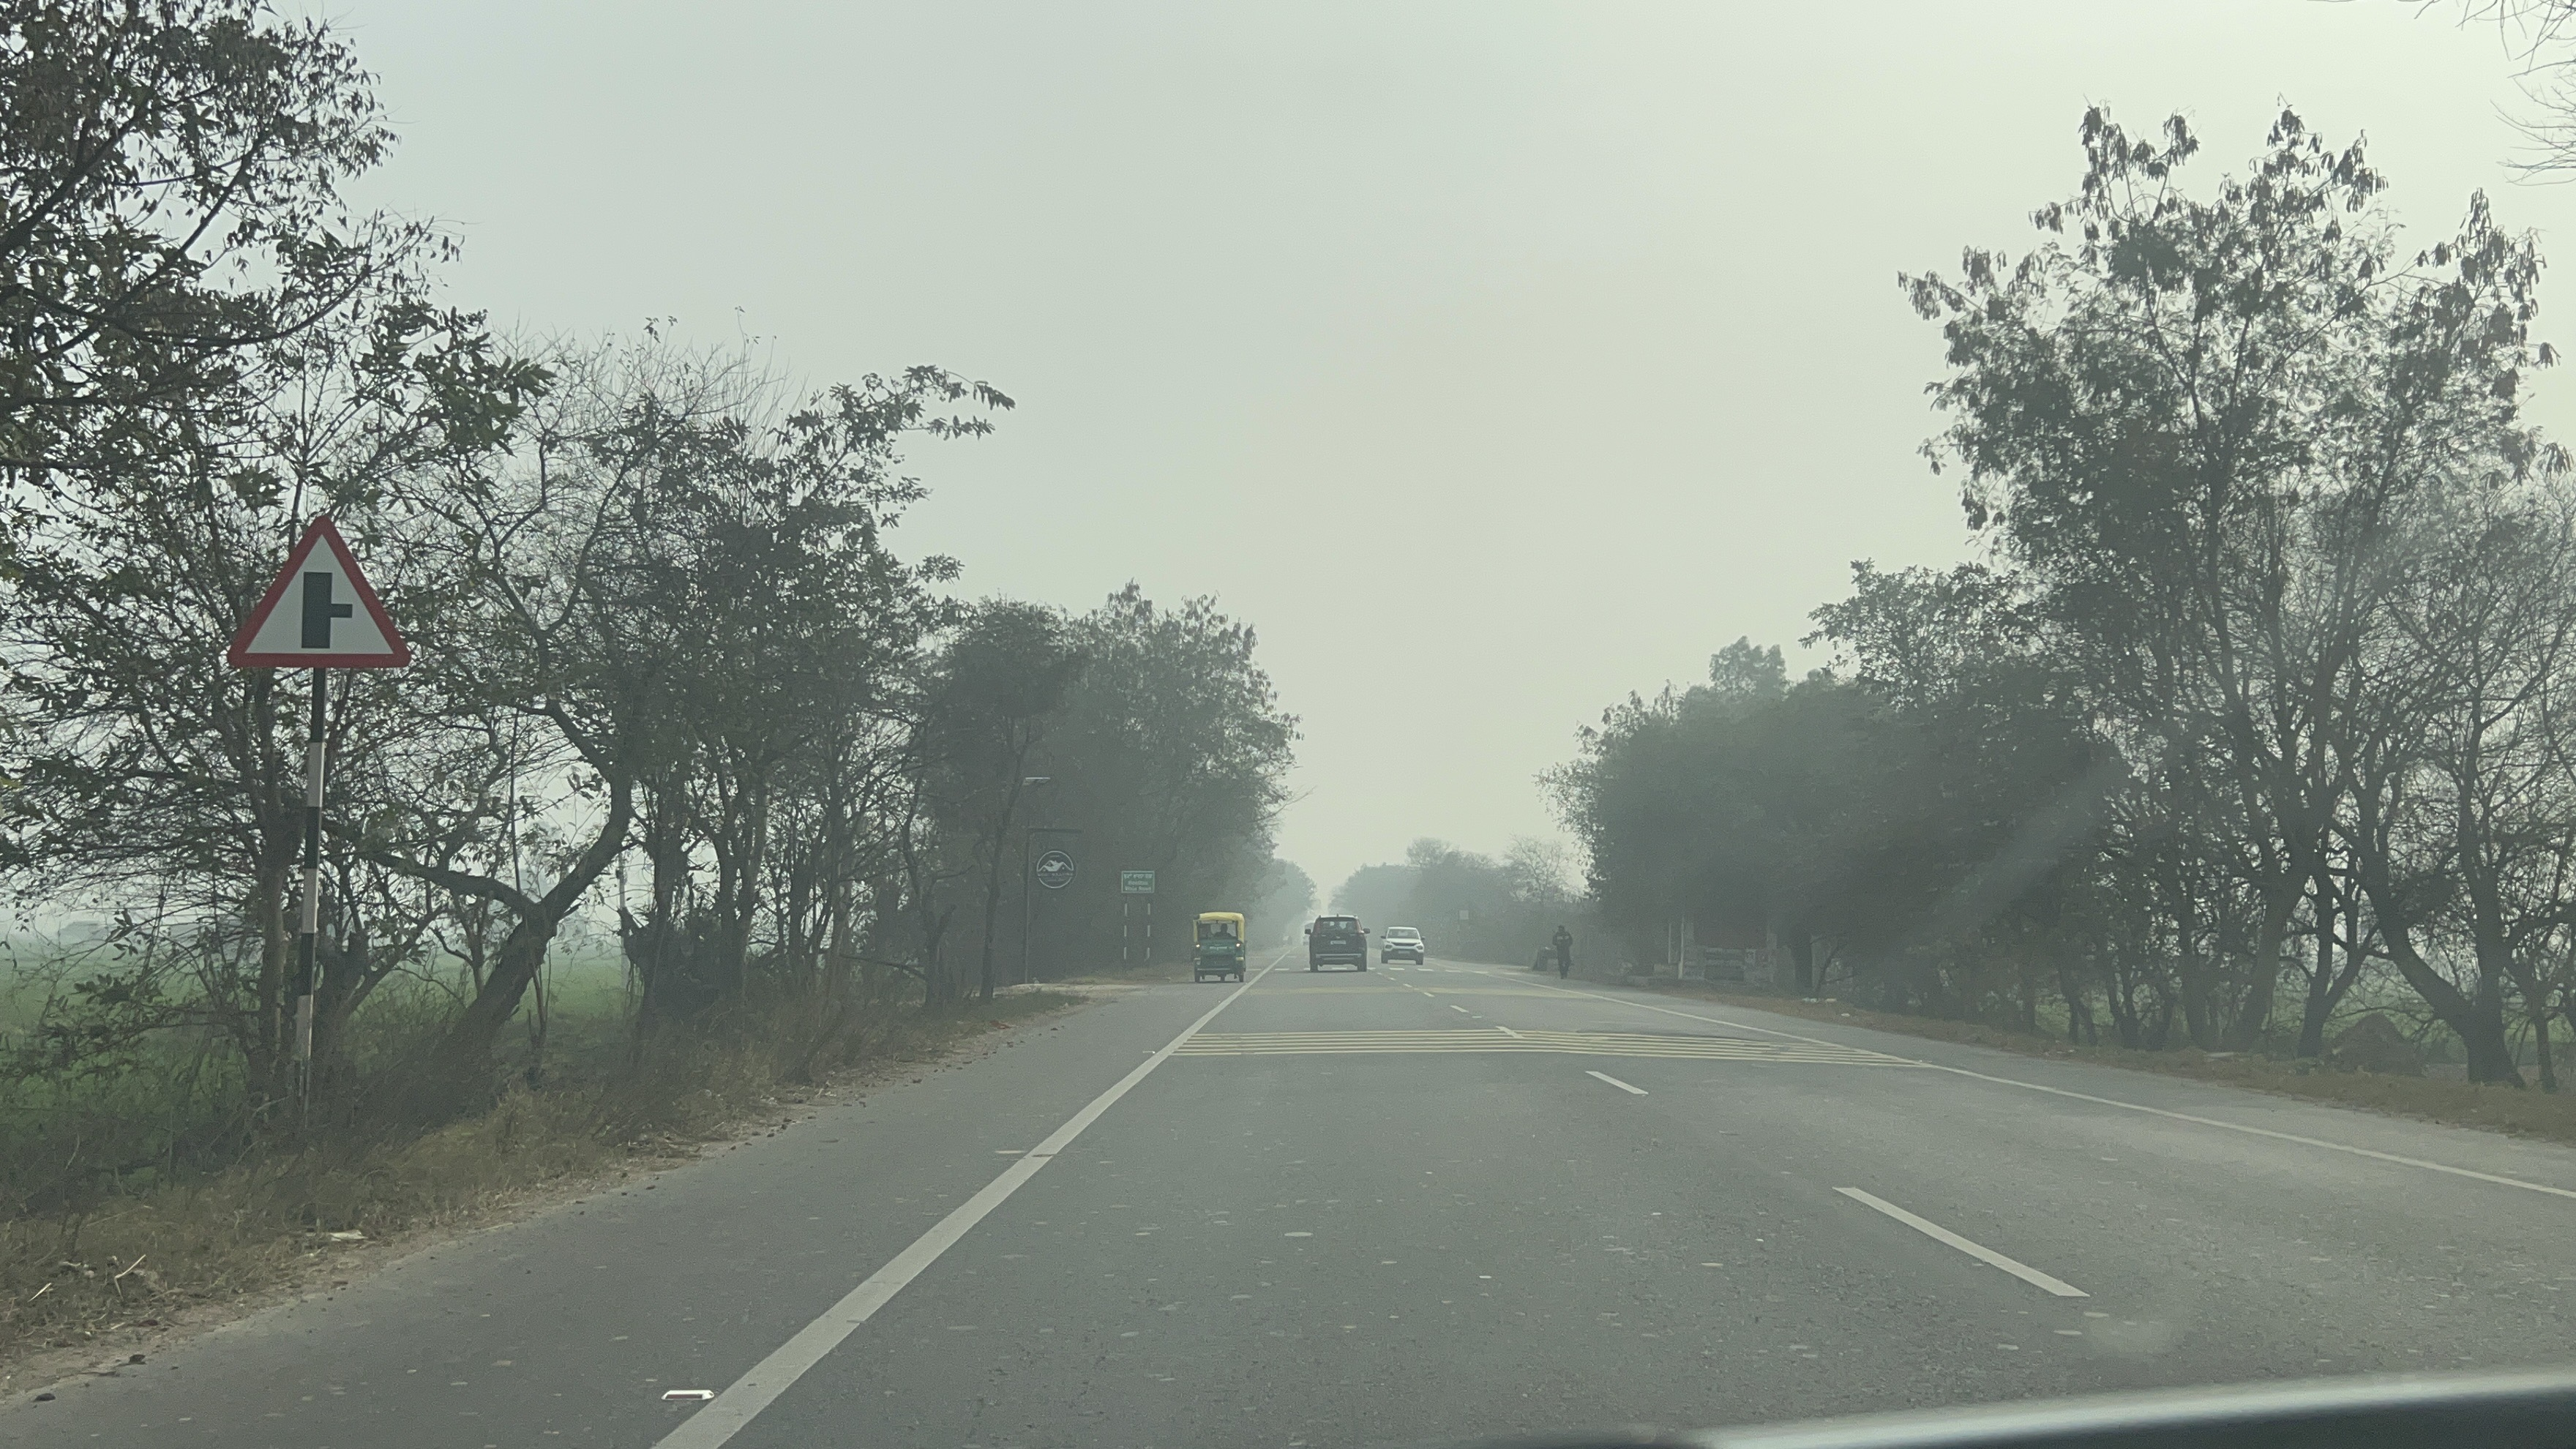Informatory: (1106, 855, 1168, 908)
Warning: (219, 499, 426, 681)
